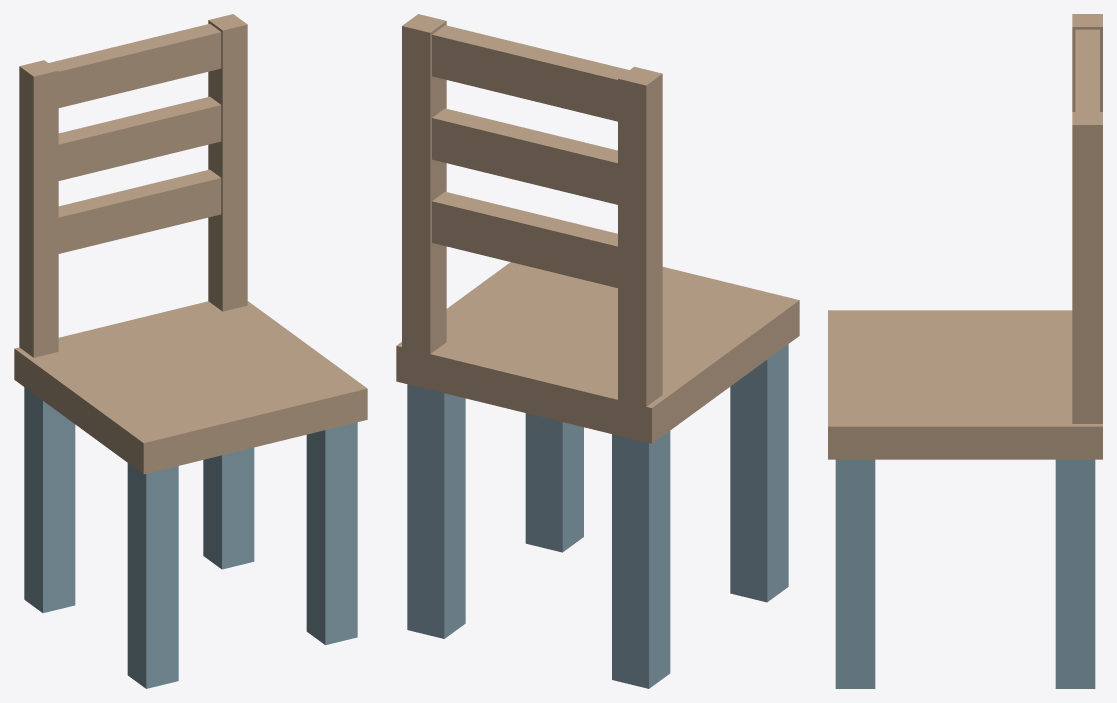
Rendered from prop-chair.glb.
The picture shows the model from 3 angles, left to right: view 1: azimuth 30°, elevation 25°; view 2: azimuth 150°, elevation 25°; view 3: azimuth 270°, elevation 25°; orthographic projection. The views are drawn at different scales.
Parts seen in each view (by area): view 1: seat, back-post--1, leg--1-1, leg-1-1, leg--1--1, back-post-1, back-slat-0.98, back-slat-0.7, back-slat-0.84, leg-1--1; view 2: seat, back-post--1, leg--1--1, leg-1--1, leg--1-1, back-post-1, back-slat-0.98, back-slat-0.7, back-slat-0.84, leg-1-1; view 3: seat, back-post-1, leg-1--1, leg-1-1, back-slat-0.98, back-post--1.
Part boxes in pixels (x1,y1,x2,y2): seat: (14, 301, 367, 474); back-post--1: (19, 60, 58, 357); leg--1-1: (127, 463, 178, 688); leg-1-1: (306, 422, 357, 645); leg--1--1: (24, 387, 75, 612); back-post-1: (208, 14, 247, 311); back-slat-0.98: (48, 23, 221, 107); back-slat-0.7: (58, 169, 221, 253); back-slat-0.84: (58, 96, 221, 180); leg-1--1: (203, 447, 254, 569); seat: (396, 262, 799, 443); back-post--1: (618, 66, 662, 441); leg--1--1: (612, 431, 670, 688); leg-1--1: (407, 384, 465, 638); leg--1-1: (730, 344, 788, 602); back-post-1: (402, 14, 446, 353); back-slat-0.98: (432, 25, 629, 121); back-slat-0.7: (432, 191, 617, 287); back-slat-0.84: (432, 108, 617, 204); leg-1-1: (525, 413, 583, 552); seat: (828, 310, 1102, 459); back-post-1: (1072, 112, 1102, 423); leg-1--1: (1055, 459, 1095, 688); leg-1-1: (835, 459, 875, 688); back-slat-0.98: (1075, 29, 1099, 111); back-post--1: (1072, 14, 1102, 111).
Size of the model in its own units: 0.45 by 1.02 by 0.45.
